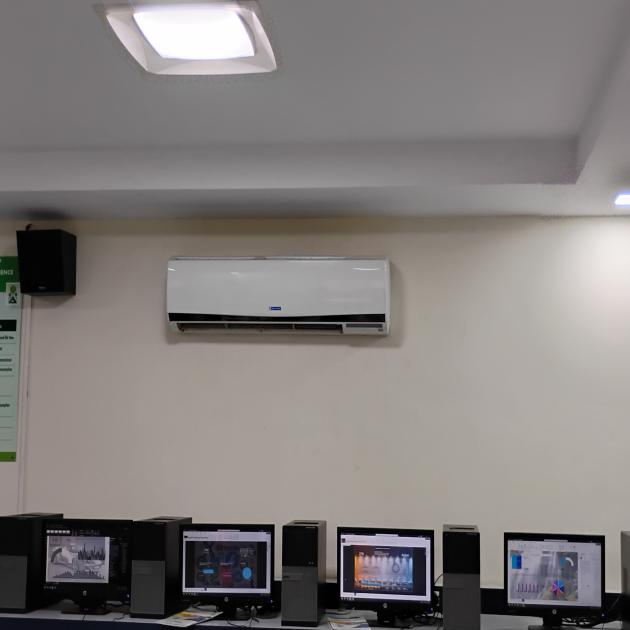air conditioner: (167, 241, 409, 379)
cpu: (124, 501, 195, 619), (278, 511, 333, 630), (438, 519, 496, 630)
light: (93, 5, 305, 109)
speaker: (0, 211, 116, 314)
